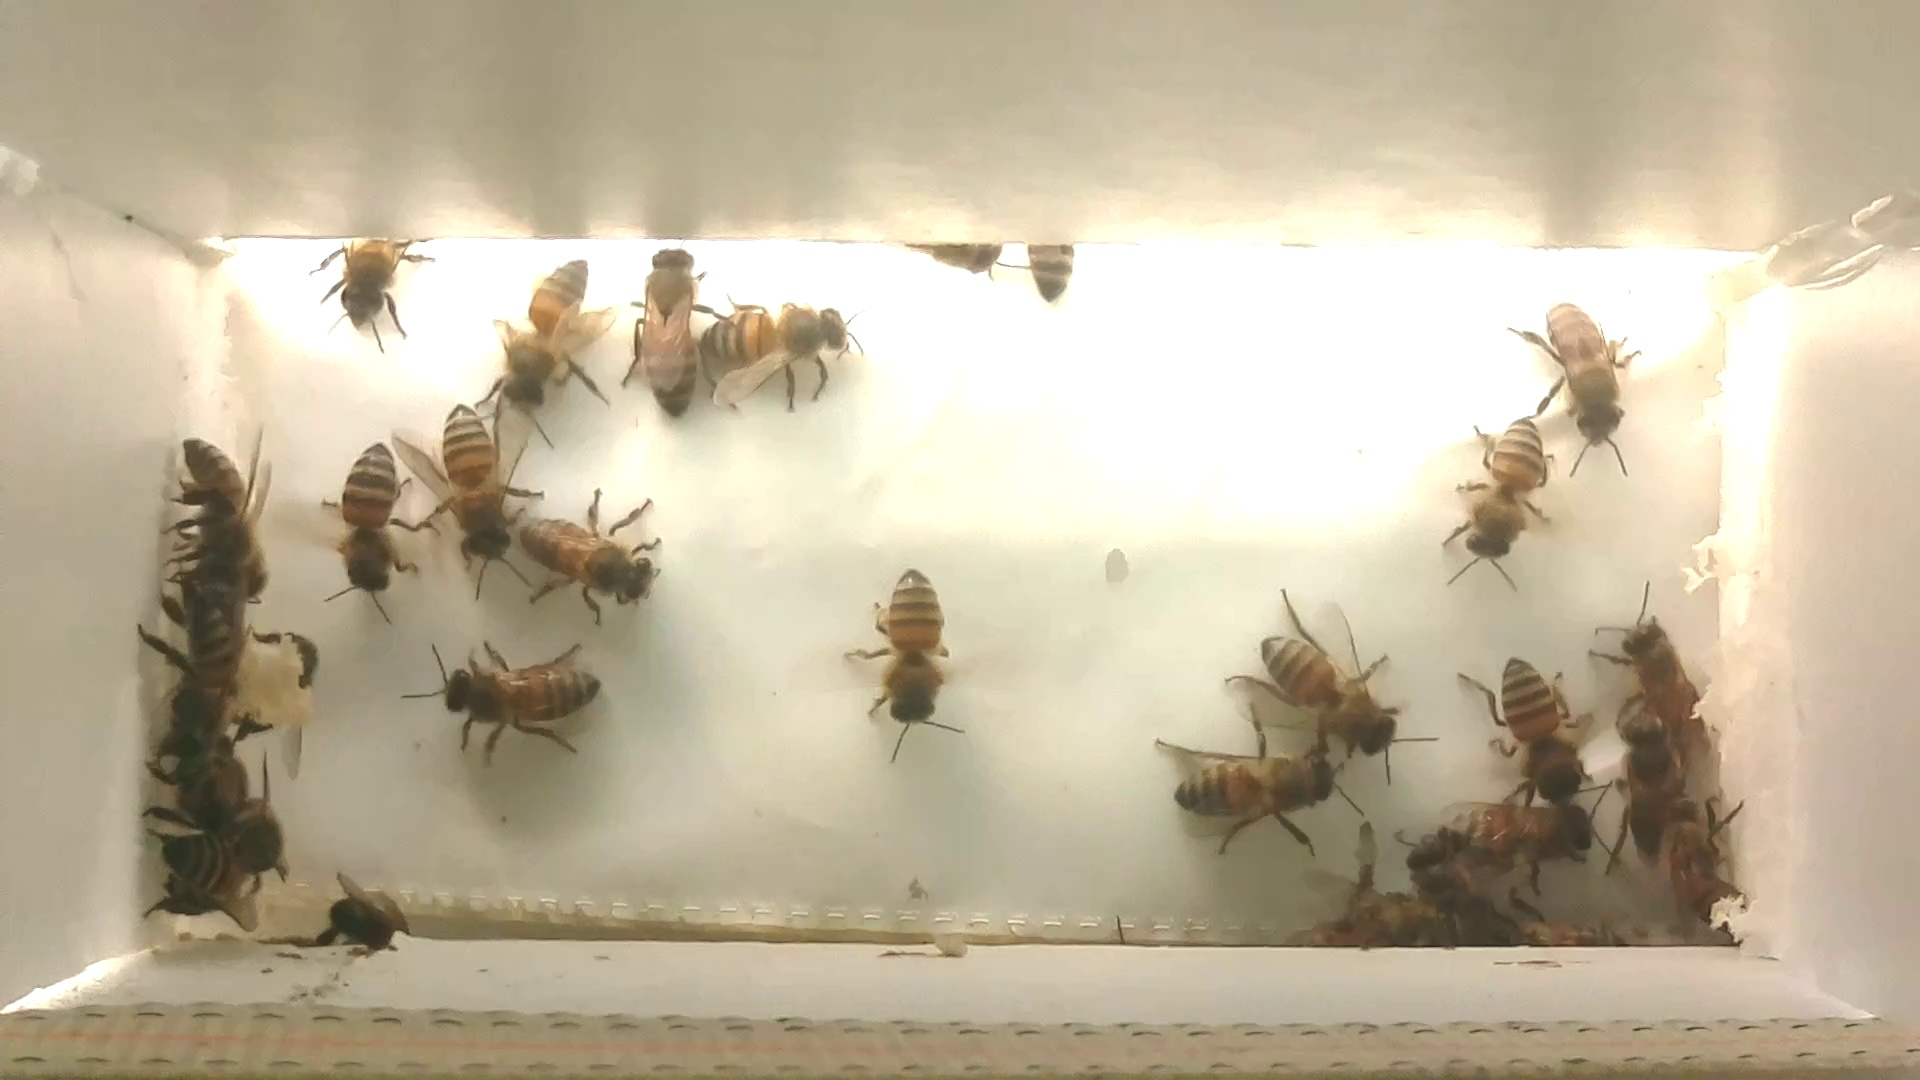bee: (1234, 593, 1447, 785), (1134, 696, 1361, 874), (1498, 276, 1664, 491), (394, 624, 629, 773), (833, 549, 980, 771), (469, 243, 624, 448), (505, 460, 683, 636), (401, 382, 543, 599), (1435, 392, 1575, 603), (684, 278, 884, 425), (1458, 636, 1614, 819), (285, 425, 429, 620), (607, 237, 738, 439), (165, 414, 295, 601), (1594, 593, 1734, 761), (295, 214, 440, 360), (1589, 691, 1705, 873), (1453, 775, 1611, 899), (1646, 789, 1768, 945), (166, 506, 276, 659), (144, 698, 268, 831), (1391, 816, 1506, 953), (129, 814, 256, 930), (305, 870, 415, 961), (1294, 898, 1448, 963), (1004, 228, 1098, 324), (890, 229, 1004, 303), (1509, 899, 1633, 960)
